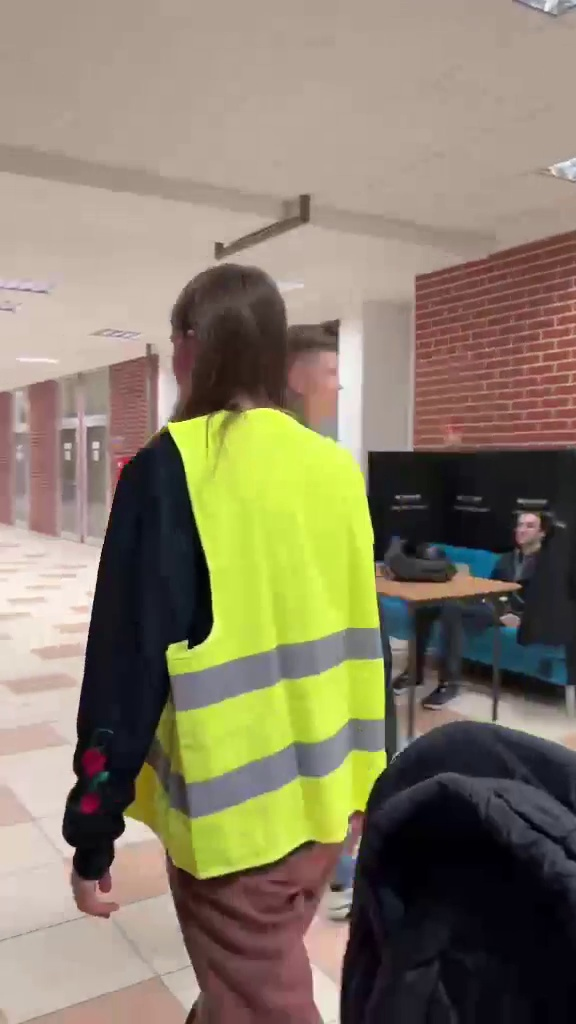no vest: (421, 488, 565, 727)
vest: (99, 243, 381, 1021)
